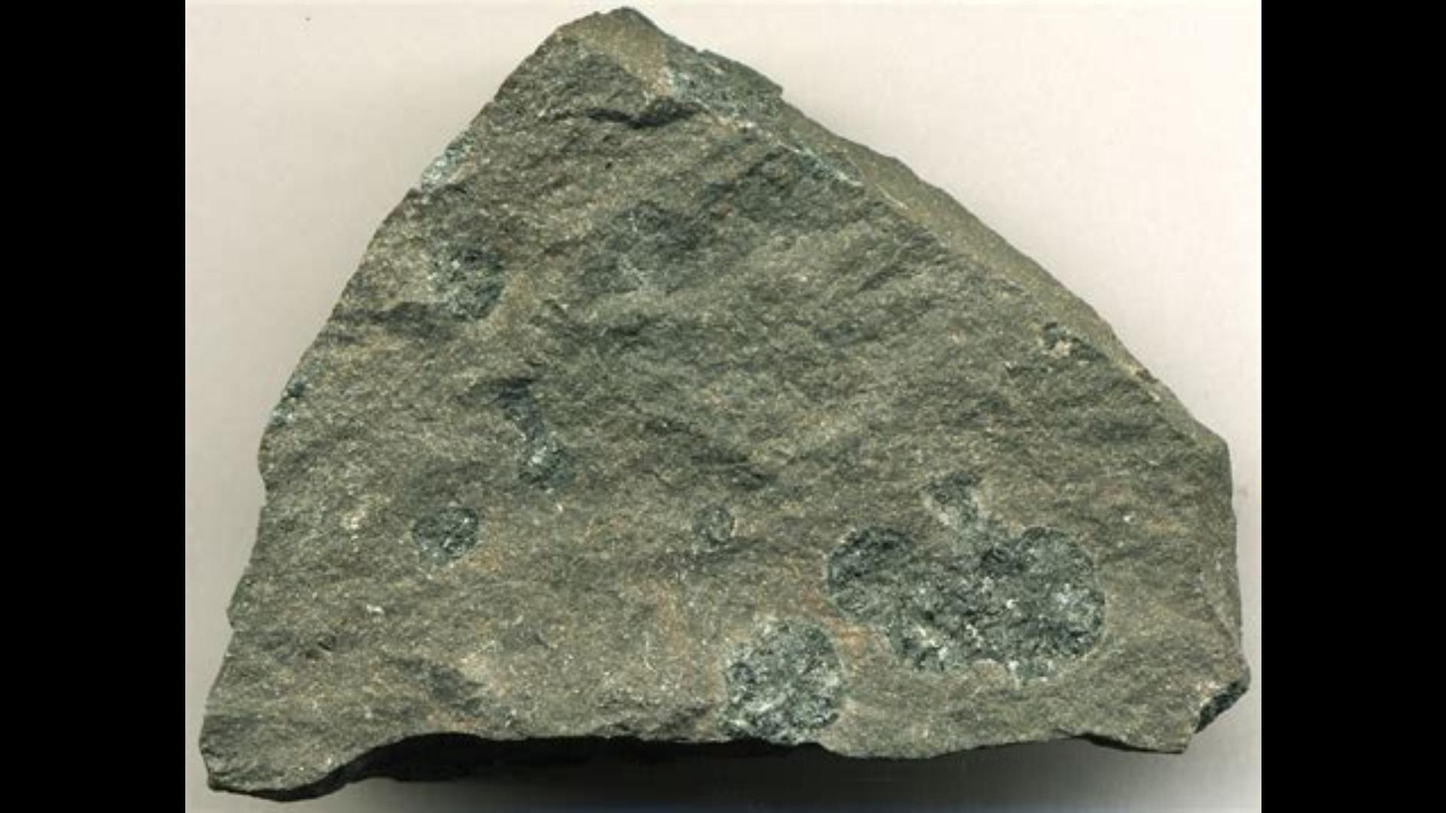rock: (200, 11, 1243, 797)
